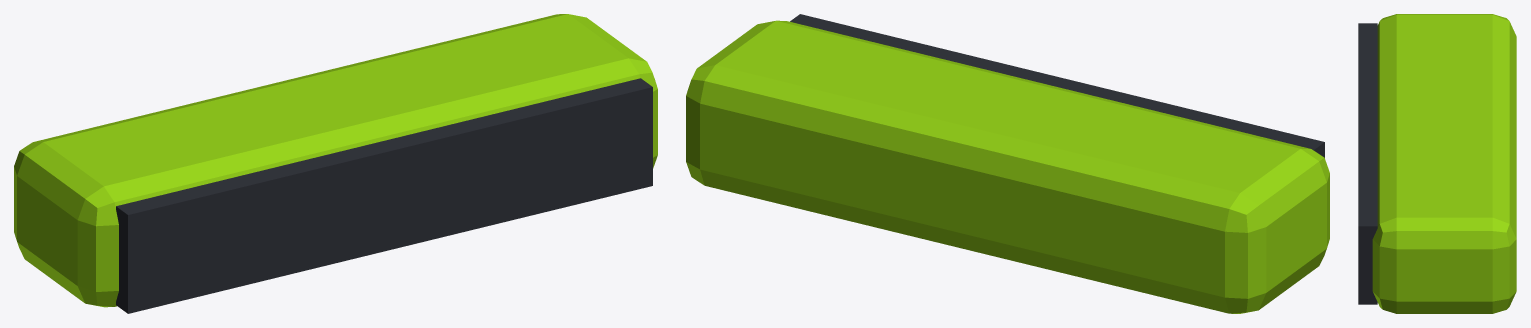
File: pod_r.obj
3 views of the same model, side by side, from view 1: azimuth 30°, elevation 25°; view 2: azimuth 150°, elevation 25°; view 3: azimuth 270°, elevation 25° (orthographic). The views are drawn at different scales.
Visible parts, largest first — view 1: Cube; view 2: Cube; view 3: Cube.
Boxes of the visible parts, x1,y1,x2,y2 form: Cube: (14,14,657,313); Cube: (686,14,1329,313); Cube: (1358,14,1516,313).
Bounding box in the file's own units: 0.55 × 0.11 × 0.165.
